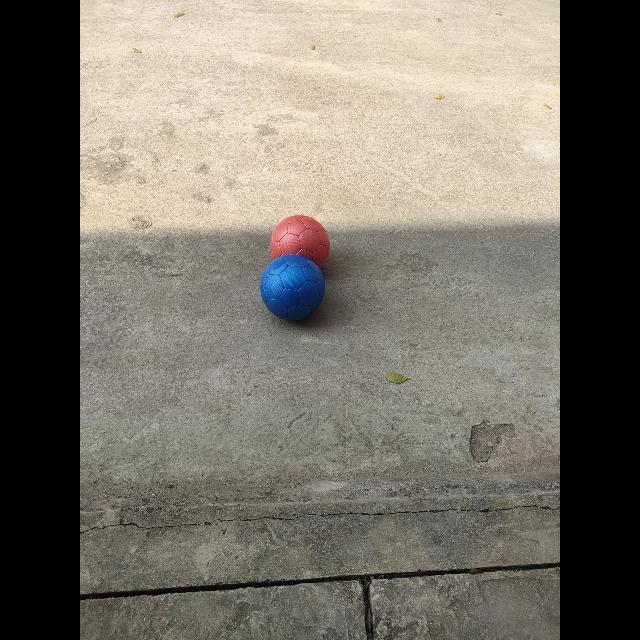B: (260, 255, 325, 320)
R: (270, 215, 330, 268)
